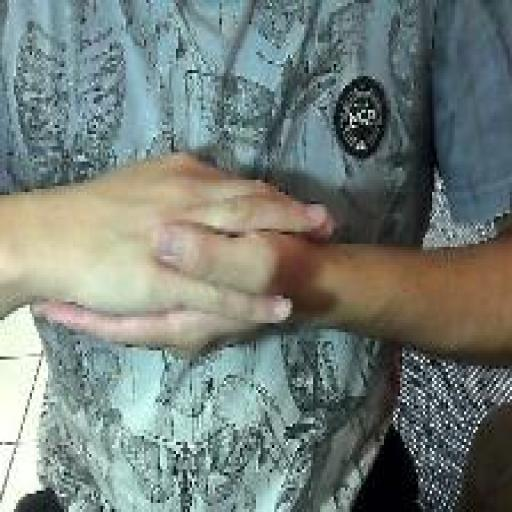Saru -monkey-: (25, 143, 341, 372)
